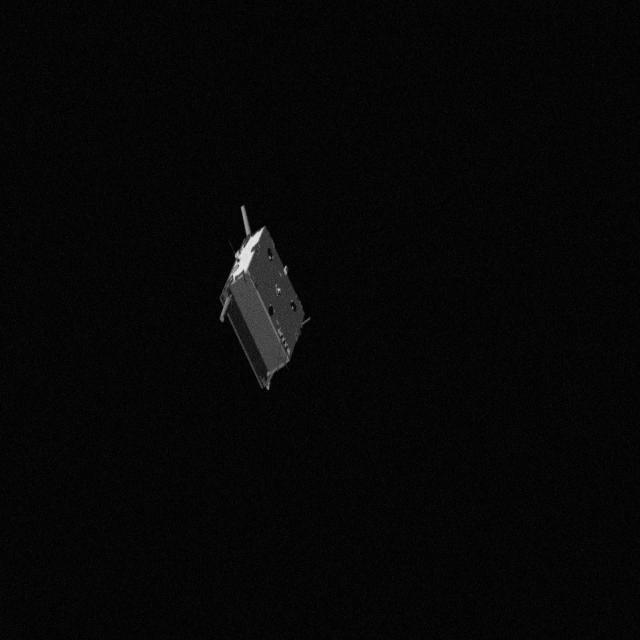satellite: (216, 198, 316, 388)
